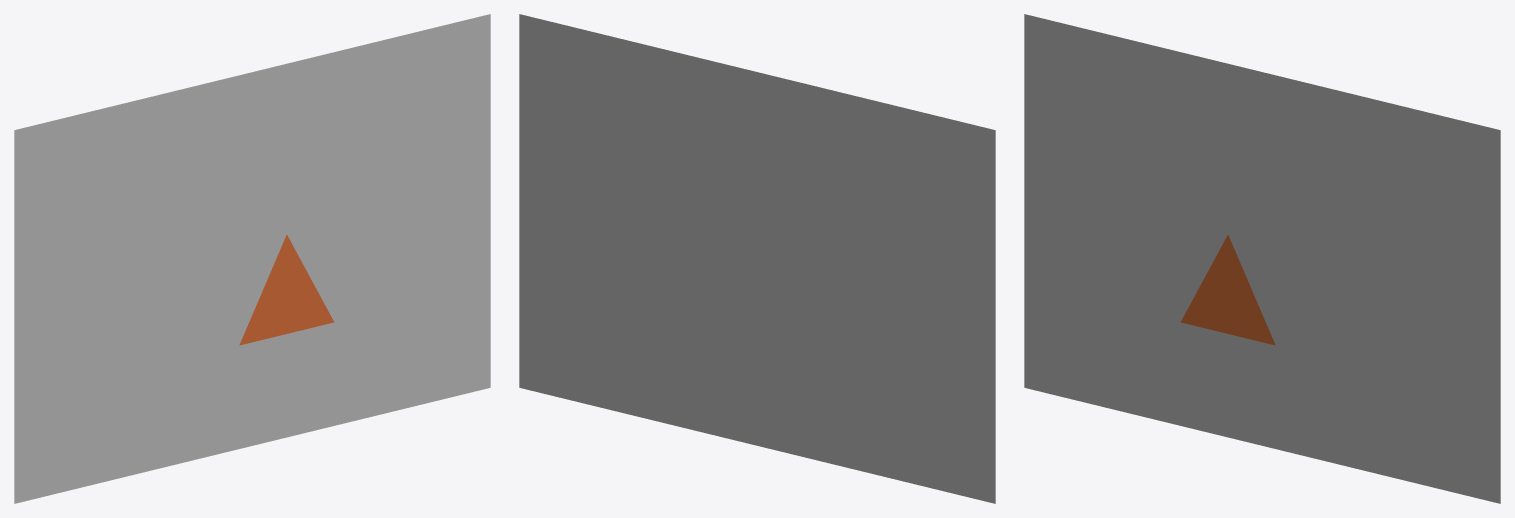
Rendered from local-shadow-contact-forward.gltf.
3 renders of one model, left to right at view 1: azimuth 30°, elevation 25°; view 2: azimuth 150°, elevation 25°; view 3: azimuth 330°, elevation 25°, orthographic.
Parts seen in each view (by area): view 1: Forward receiver and shadow blocker; view 2: Forward receiver and shadow blocker; view 3: Forward receiver and shadow blocker.
Part boxes in pixels (left/top/right/bottom): Forward receiver and shadow blocker: left=14, top=14, right=490, bottom=503; Forward receiver and shadow blocker: left=519, top=14, right=995, bottom=503; Forward receiver and shadow blocker: left=1024, top=14, right=1500, bottom=503.
Bounding box in the file's own units: 8 × 6 × 1.
